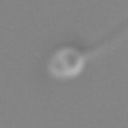normal: (82, 18, 128, 56)
